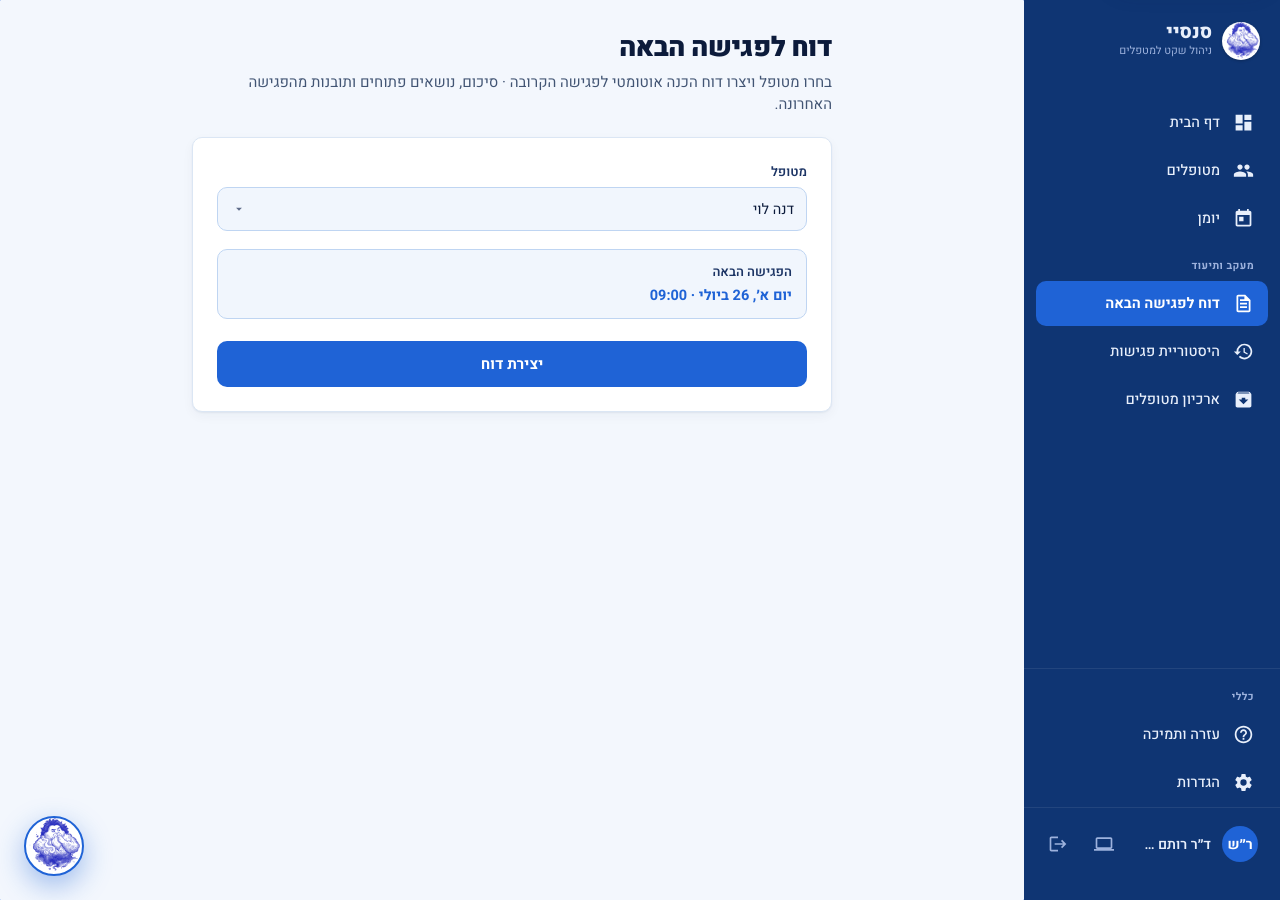
Test case: next meeting report launcher › generates the prep report for the selected patient
Click the button with aria-label "יצירת דוח הכנה".
click(512, 364)  # box [217,341,807,387]
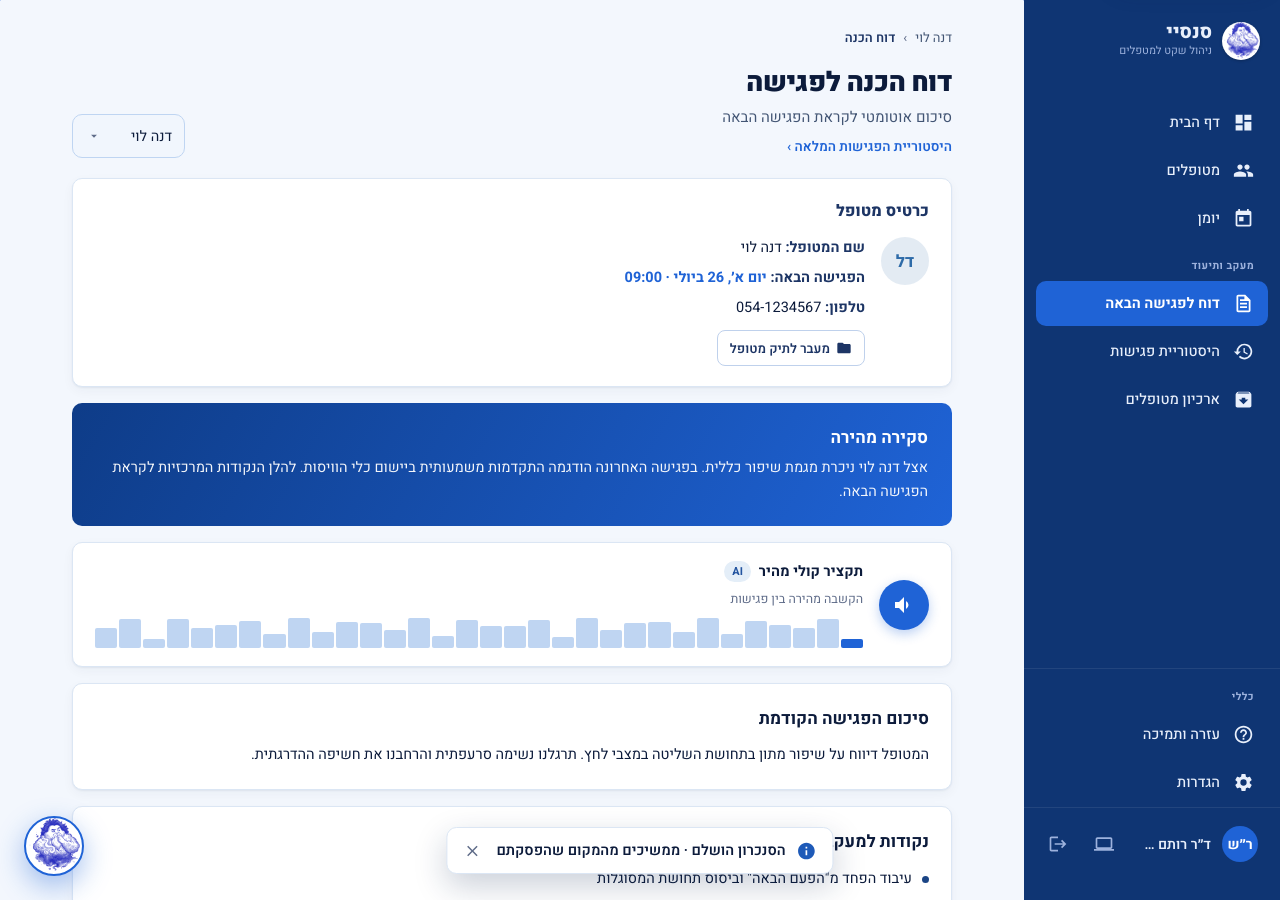
Now the heading "דוח הכנה לפגישה" is shown, box [722,63,952,102]
